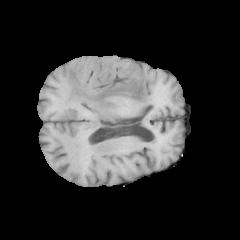glioma: (65, 67, 152, 117)
